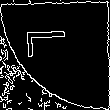L_E: (30, 39, 80, 71)
